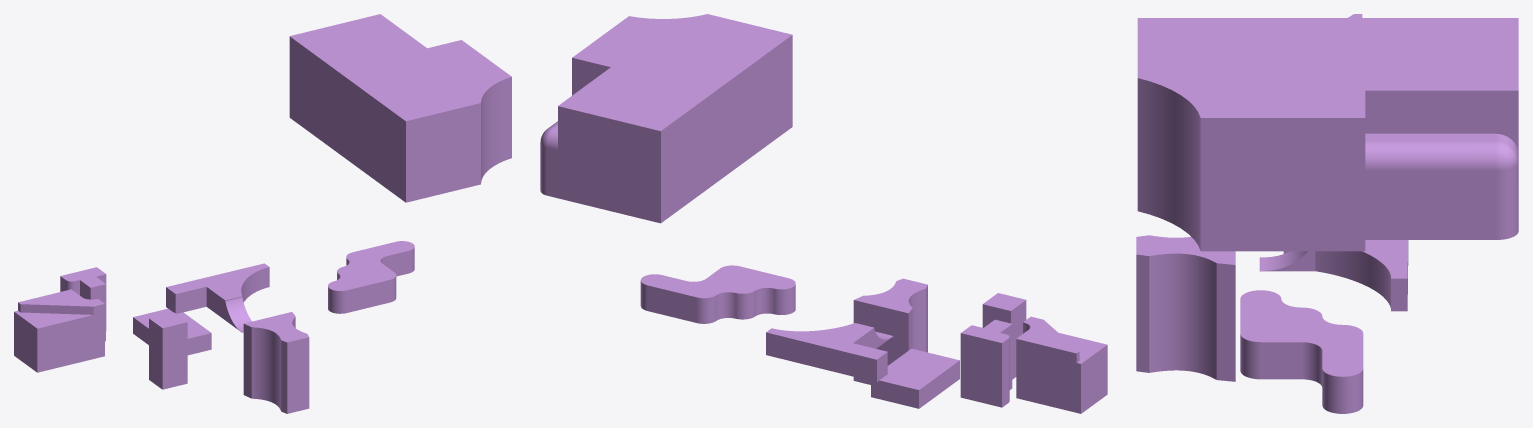
The model's file is frame_gallery_type_b.gltf.
3 views of the same model, side by side, from view 1: azimuth 30°, elevation 25°; view 2: azimuth 150°, elevation 25°; view 3: azimuth 270°, elevation 25° (orthographic). The views are drawn at different scales.
Bounding box in the file's own units: 126 × 70.68 × 56.83.
